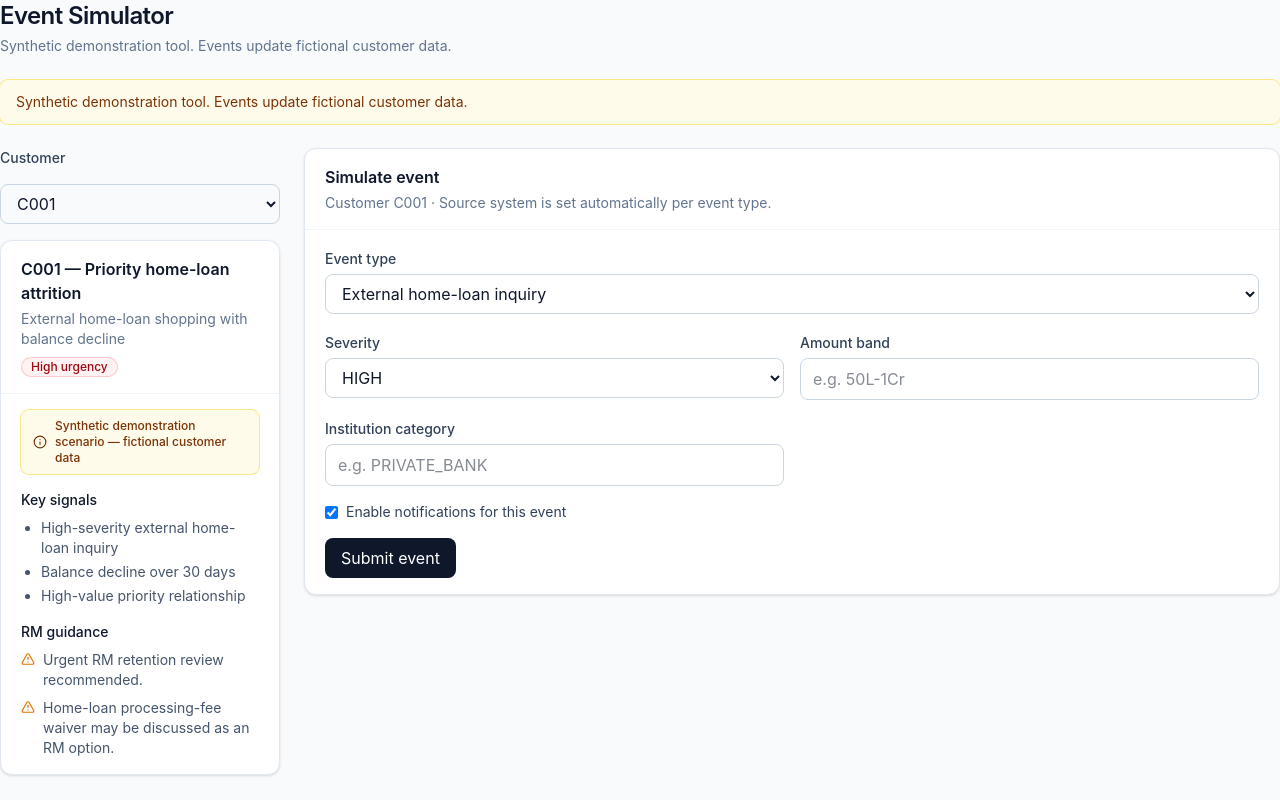
Event simulator › shows failed event and offers retry
Click the button "Submit event": click(390, 558) [325, 538, 456, 578]
Wait 100 ms
(page scrolled)
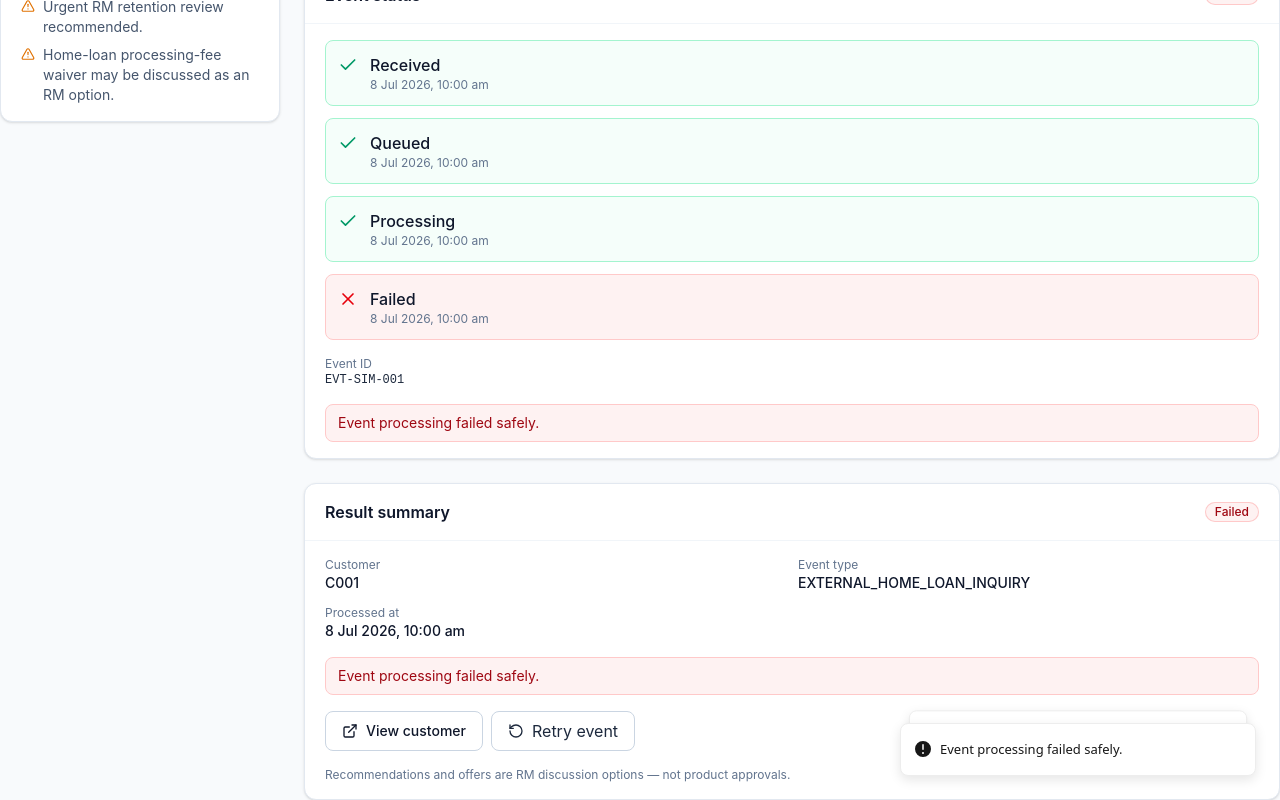
Result: the text "Event processing failed safely." below "EVT-SIM-001" is shown at [338, 414, 539, 431]
Result: the button "Retry event" is shown at [491, 711, 635, 751]
